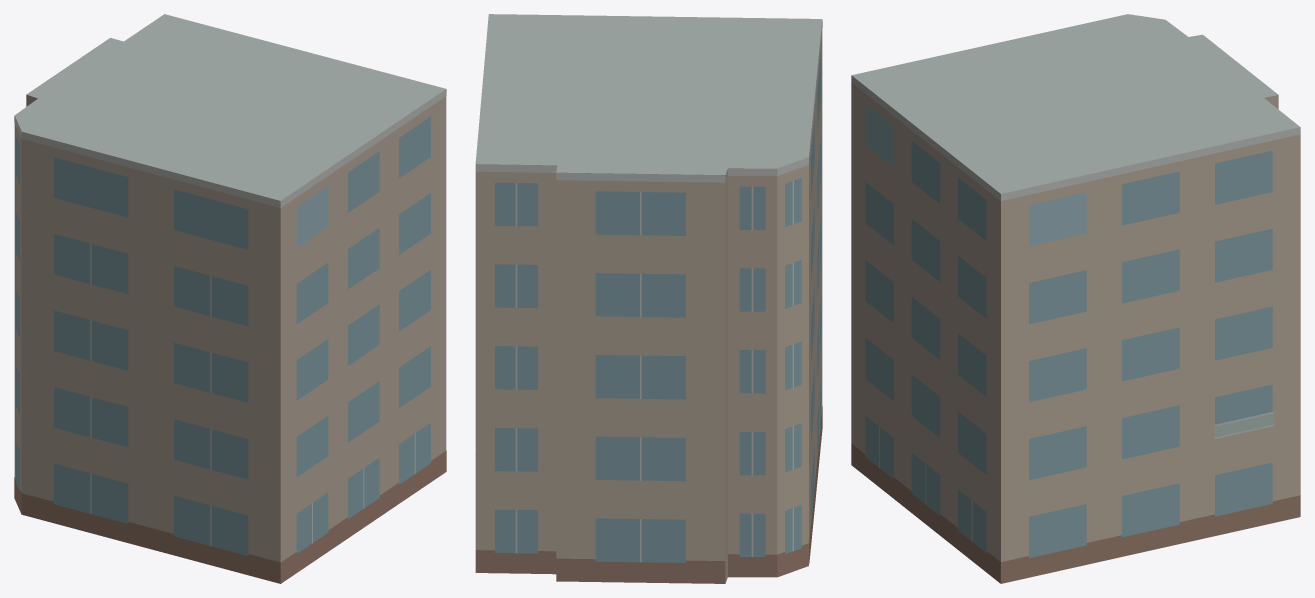
Rendered from survey-upis-32745845.glb.
3 renders of one model, left to right at view 1: azimuth 30°, elevation 25°; view 2: azimuth 150°, elevation 25°; view 3: azimuth 270°, elevation 25°, orthographic. The views are drawn at different scales.
Parts seen in each view (by area): view 1: survey-upis-32745845.tmp; view 2: survey-upis-32745845.tmp; view 3: survey-upis-32745845.tmp.
Part boxes in pixels (bbox=[...]): survey-upis-32745845.tmp: bbox=[14, 14, 446, 583]; survey-upis-32745845.tmp: bbox=[475, 14, 822, 583]; survey-upis-32745845.tmp: bbox=[851, 14, 1300, 583].
Size of the model in its own units: 13.03 by 13.15 by 13.74.
